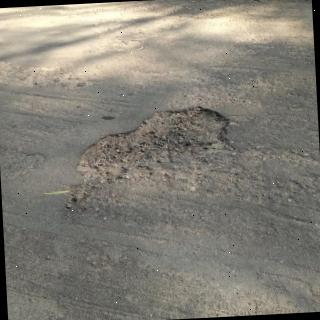pothole: (68, 105, 236, 200)
